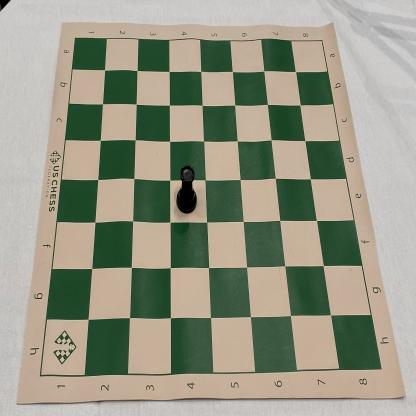black-rook: (176, 164, 198, 216)
